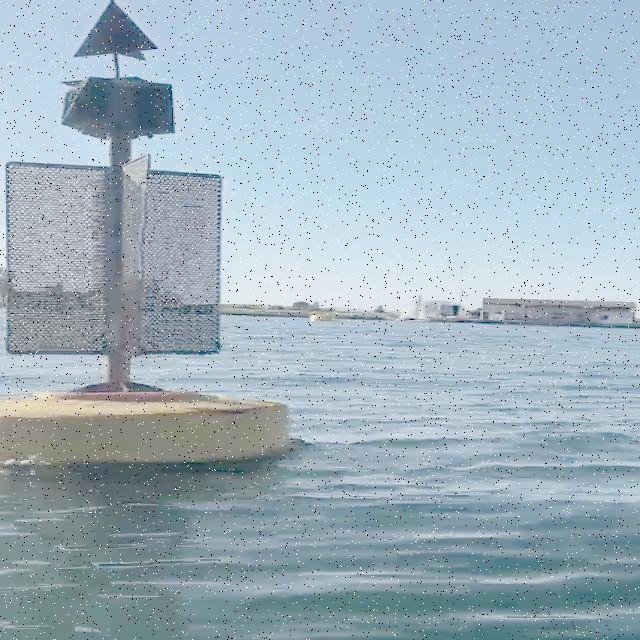marque: (2, 1, 302, 473)
